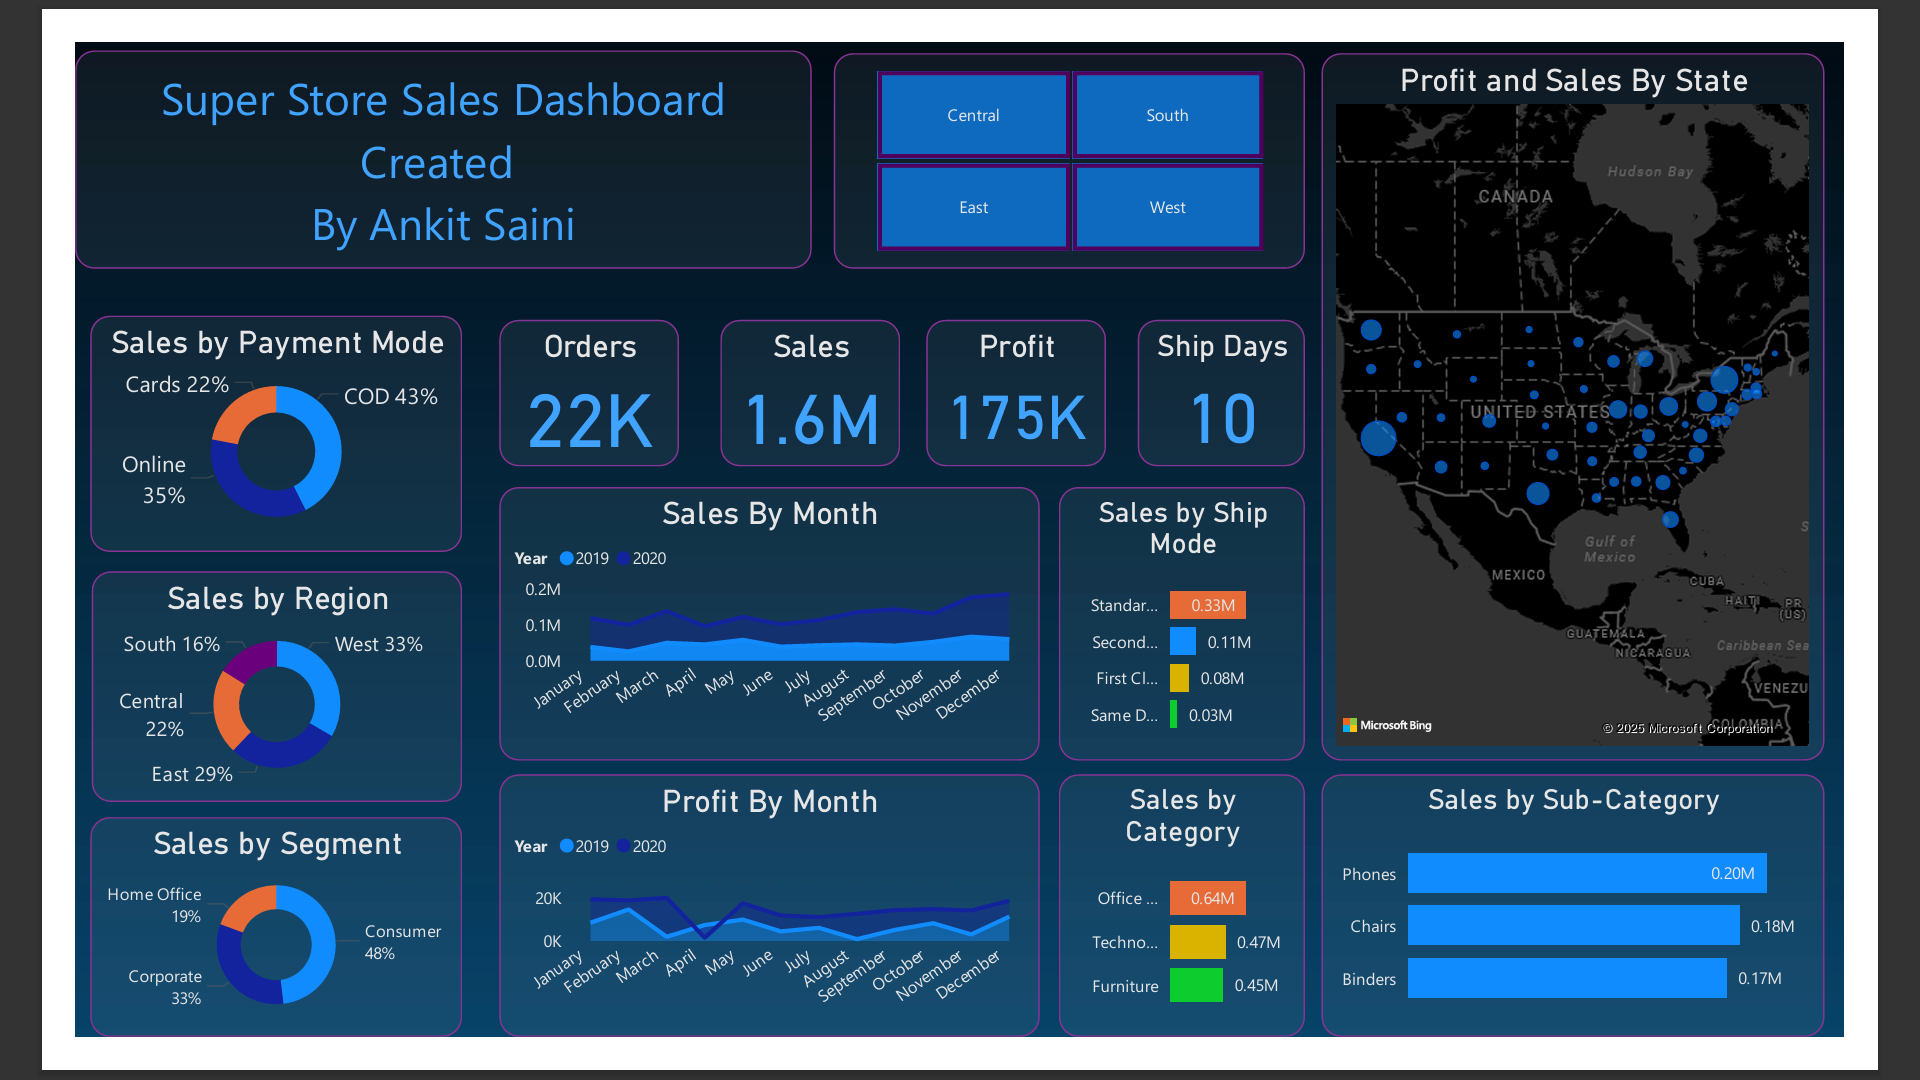

The page's visual inventory and layout, read from the dashboard file:
{"tool":"powerbi","page":{"name":"Page 1","canvas":[1280,720],"ordinal":0},"visuals":[{"type":"clusteredBarChart","title":"Sales by Category","fields":{"Category":["SuperStore_Sales_Dataset.Category"],"Y":["Sum(SuperStore_Sales_Dataset.Sales)"]},"box":[712.2,530,177.8,190],"z":0},{"type":"clusteredBarChart","title":"Sales by Sub-Category","fields":{"Category":["SuperStore_Sales_Dataset.Sub-Category"],"Y":["Sum(SuperStore_Sales_Dataset.Sales)"]},"box":[902.2,530,363.3,190],"z":1000},{"type":"clusteredBarChart","title":"Sales by Ship Mode","fields":{"Y":["Sum(SuperStore_Sales_Dataset.Sales)"],"Category":["SuperStore_Sales_Dataset.Ship Mode"]},"box":[712.2,322.2,177.8,197.8],"z":2000},{"type":"stackedAreaChart","title":"Sales By Month","fields":{"Y":["Sum(SuperStore_Sales_Dataset.Sales)"],"Series":["SuperStore_Sales_Dataset.Order Date.Variation.Date Hierarchy.Year"],"Category":["SuperStore_Sales_Dataset.Order Date.Variation.Date Hierarchy.Month"]},"box":[306.7,322.2,391.1,197.8],"z":3000},{"type":"stackedAreaChart","title":"Profit By Month","fields":{"Series":["SuperStore_Sales_Dataset.Order Date.Variation.Date Hierarchy.Year"],"Category":["SuperStore_Sales_Dataset.Order Date.Variation.Date Hierarchy.Month"],"Y":["Sum(SuperStore_Sales_Dataset.Profit)"]},"box":[306.7,530,391.1,190],"z":4000},{"type":"map","title":"Profit and Sales By State","fields":{"Category":["SuperStore_Sales_Dataset.State"],"Size":["Sum(SuperStore_Sales_Dataset.Sales)"]},"box":[902.2,7.8,363.3,512.2],"z":5000},{"type":"donutChart","title":"Sales by Segment","fields":{"Category":["SuperStore_Sales_Dataset.Segment"],"Y":["Sum(SuperStore_Sales_Dataset.Sales)"]},"box":[11.1,561.1,268.9,158.9],"z":6000},{"type":"donutChart","title":"Sales by Region","fields":{"Y":["Sum(SuperStore_Sales_Dataset.Sales)"],"Category":["SuperStore_Sales_Dataset.Region"]},"box":[12.2,383.3,267.8,166.7],"z":7000},{"type":"donutChart","title":"Sales by Payment Mode","fields":{"Y":["Sum(SuperStore_Sales_Dataset.Sales)"],"Category":["SuperStore_Sales_Dataset.Payment Mode"]},"box":[11.1,197.8,268.9,171.1],"z":8000},{"type":"slicer","fields":{"Values":["SuperStore_Sales_Dataset.Region"]},"box":[548.9,7.8,341.1,156.7],"z":9000},{"type":"textbox","box":[0,5.6,533.3,158.9],"z":10000},{"type":"card","title":"Sales","fields":{"Values":["Sum(SuperStore_Sales_Dataset.Sales)"]},"box":[466.7,201.1,130,105.6],"z":11000},{"type":"card","title":"Ship Days","fields":{"Values":["Avg(SuperStore_Sales_Dataset.Avg_Delivery)"]},"box":[768.9,201.1,121.1,105.6],"z":12000},{"type":"card","title":"Orders","fields":{"Values":["Sum(SuperStore_Sales_Dataset.Quantity)"]},"box":[306.7,201.1,130,105.6],"z":13000},{"type":"card","title":"Profit","fields":{"Values":["Sum(SuperStore_Sales_Dataset.Profit)"]},"box":[615.6,201.1,130,105.6],"z":14000}]}

Visuals, with their boxes in screenshot pixels (x1, y1, x2, y2), scaled from the page's 1280x720 canvas onto the 1920x1080 screenshot:
"Sales by Category" clusteredBarChart: (1068,795,1335,1079)
"Sales by Sub-Category" clusteredBarChart: (1353,795,1898,1079)
"Sales by Ship Mode" clusteredBarChart: (1068,483,1335,780)
"Sales By Month" stackedAreaChart: (460,483,1047,780)
"Profit By Month" stackedAreaChart: (460,795,1047,1079)
"Profit and Sales By State" map: (1353,12,1898,780)
"Sales by Segment" donutChart: (17,842,420,1079)
"Sales by Region" donutChart: (18,575,420,825)
"Sales by Payment Mode" donutChart: (17,297,420,553)
slicer - SuperStore_Sales_Dataset.Region: (823,12,1335,247)
textbox: (0,8,800,247)
"Sales" card: (700,302,895,460)
"Ship Days" card: (1153,302,1335,460)
"Orders" card: (460,302,655,460)
"Profit" card: (923,302,1118,460)
